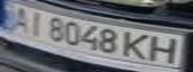0: (60, 19, 81, 47)
4: (78, 24, 103, 52)
8: (96, 26, 121, 56), (42, 15, 66, 43)
A: (3, 3, 36, 34)
H: (148, 34, 184, 64)
I: (21, 9, 51, 38)
K: (121, 29, 154, 61)
